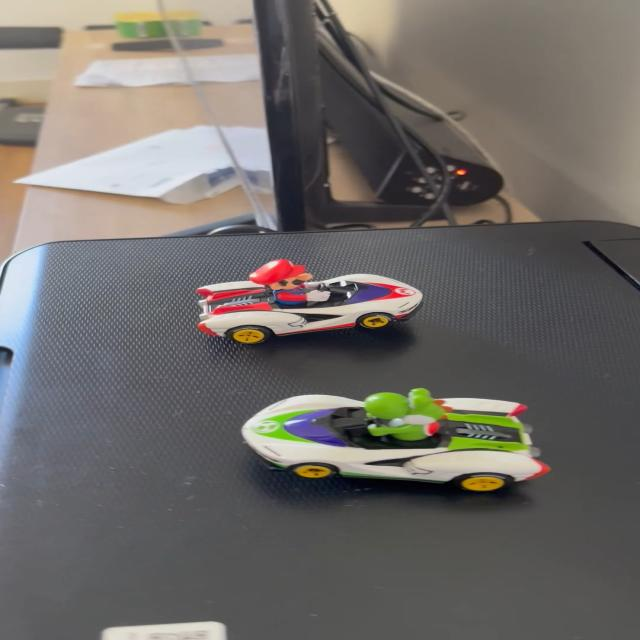mario: (182, 258, 430, 348)
yoshi: (230, 376, 562, 493)
